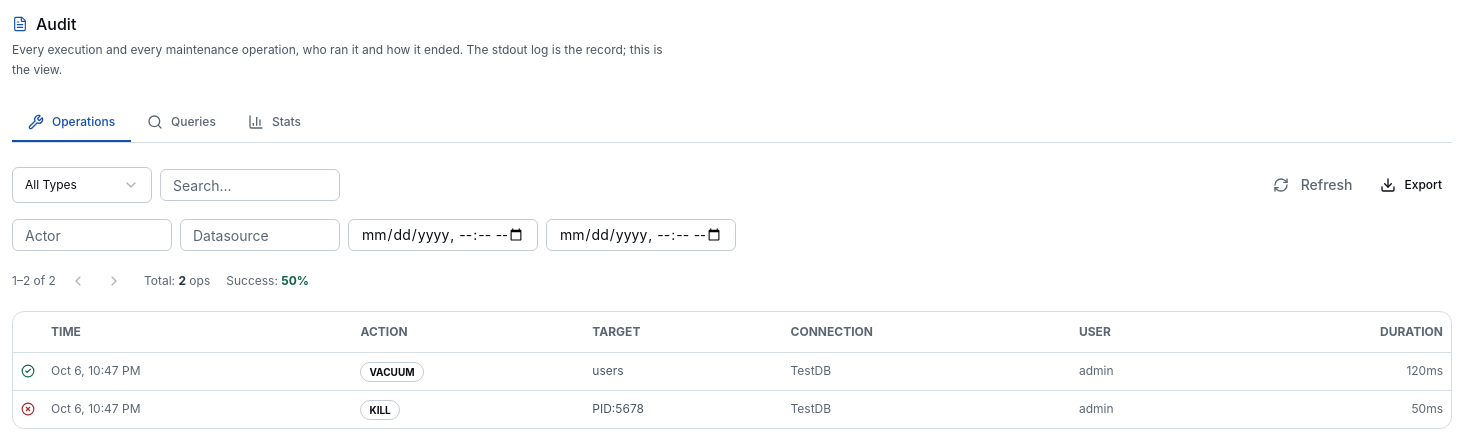
Test: AuditTab › queries tab shows the executions the server recorded
Click the Queries tab trigger (must use userEvent for Radix tabs in happy-dom)
Click the tab "Queries": (182, 122) [131,103,232,142]
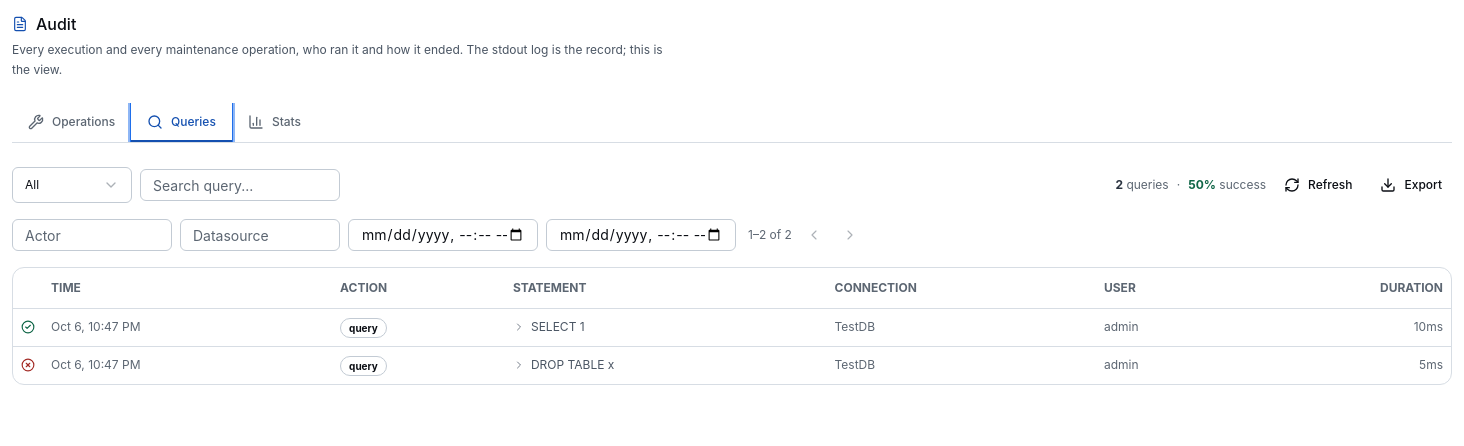
Expected: the text "SELECT 1" is shown, [531,319,585,335]
Expected: the text "DROP TABLE x" is shown, [531,357,614,373]
